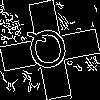Q: (25, 25, 72, 80)
